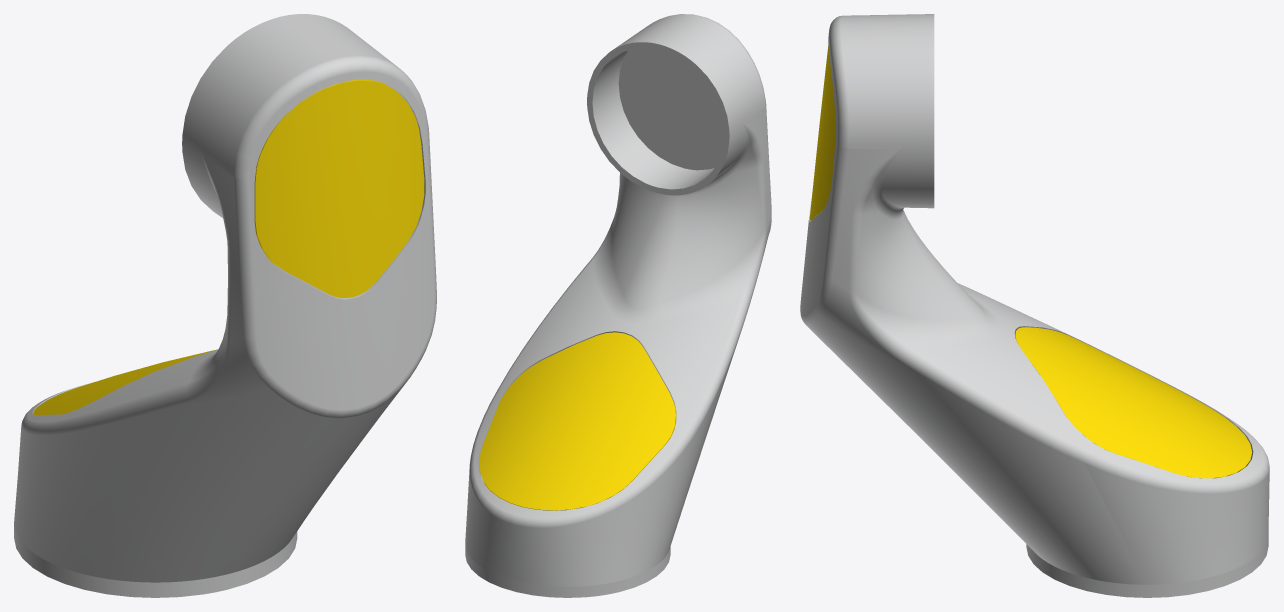
3 renders of one model, left to right at view 1: azimuth 30°, elevation 25°; view 2: azimuth 150°, elevation 25°; view 3: azimuth 270°, elevation 25°, orthographic. The views are drawn at different scales.
Visible parts, largest first — view 1: _; view 2: _; view 3: _.
Boxes of the visible parts, x1,y1,x2,y2 form: _: [14, 14, 436, 597]; _: [465, 14, 771, 597]; _: [800, 14, 1269, 597].
Bounding box in the file's own units: 0.109 × 0.1939 × 0.2386.
